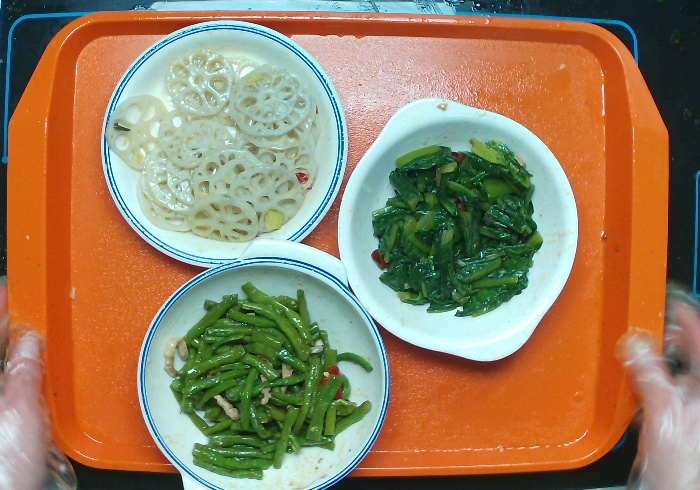HZYJPL-Dai_Er_Bai_Yuan_Wan: (334, 87, 585, 369)
HZYJPL-Lan_Bian_Dai_Er_Wan: (135, 237, 393, 489)
HZYJPL-Lan_Bian_Yuan_Die: (97, 16, 352, 270)
